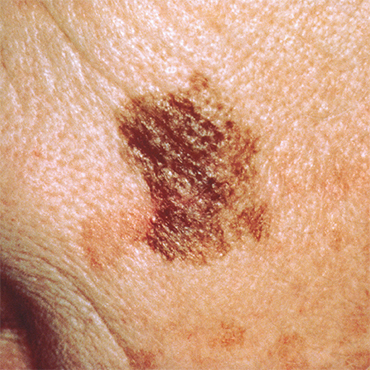Melanoma: (119, 88, 269, 266)
